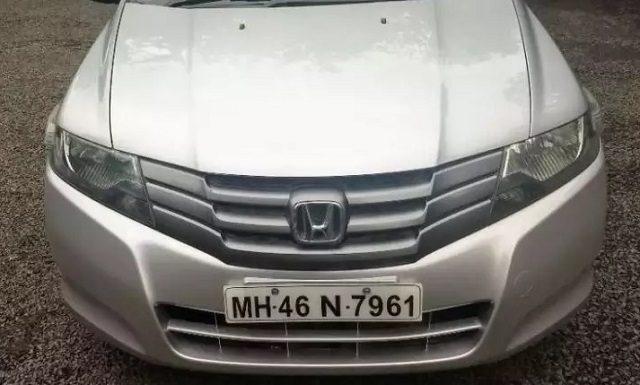licenseplate: (222, 283, 428, 328)
